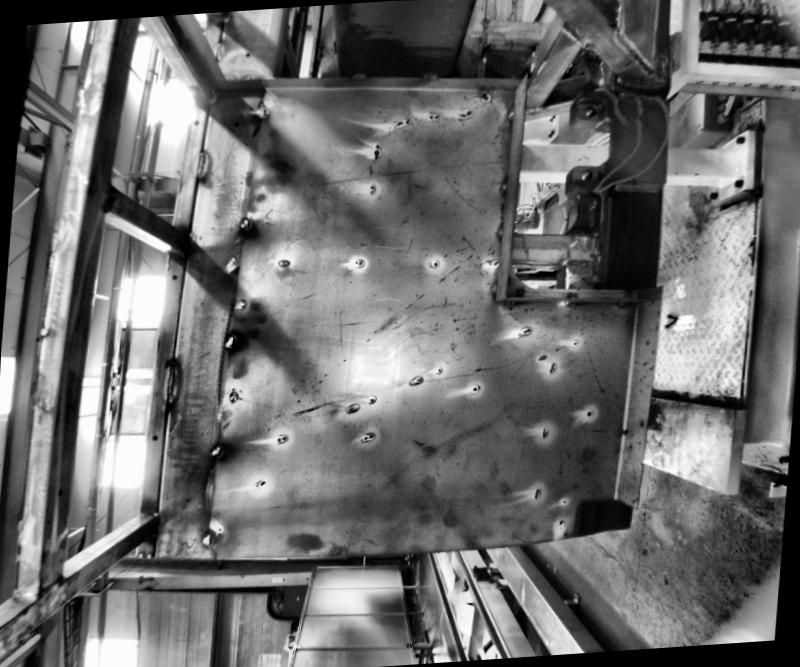hole: (578, 168, 592, 182), (581, 106, 596, 118), (169, 273, 176, 281), (150, 435, 156, 440), (232, 122, 237, 127), (244, 52, 248, 58), (192, 120, 196, 124)
welding: (612, 31, 652, 73), (560, 18, 585, 46), (164, 360, 176, 411), (207, 439, 225, 463), (210, 39, 224, 65), (235, 215, 252, 236), (192, 148, 203, 178), (417, 70, 435, 82), (256, 104, 268, 121), (222, 334, 234, 350), (199, 530, 211, 544), (505, 106, 516, 120), (559, 300, 579, 306), (350, 73, 362, 81), (500, 180, 507, 191), (490, 282, 496, 294), (618, 303, 629, 307), (504, 300, 512, 305), (497, 227, 500, 236)
